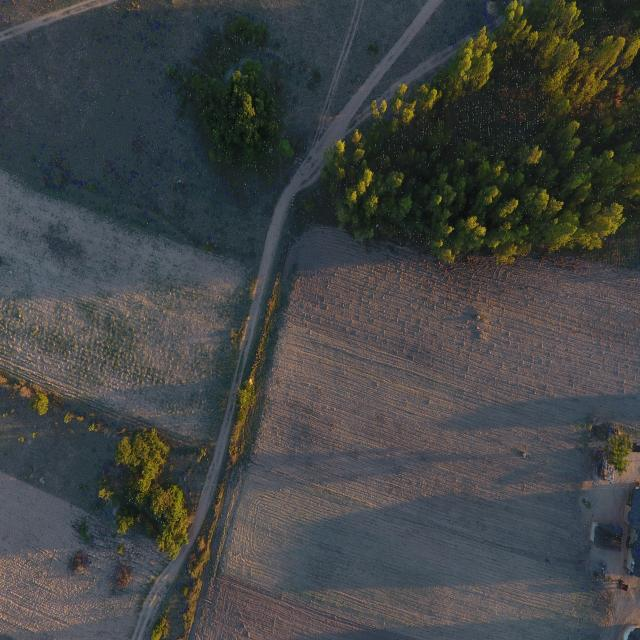boundaries: (179, 241, 307, 605)
